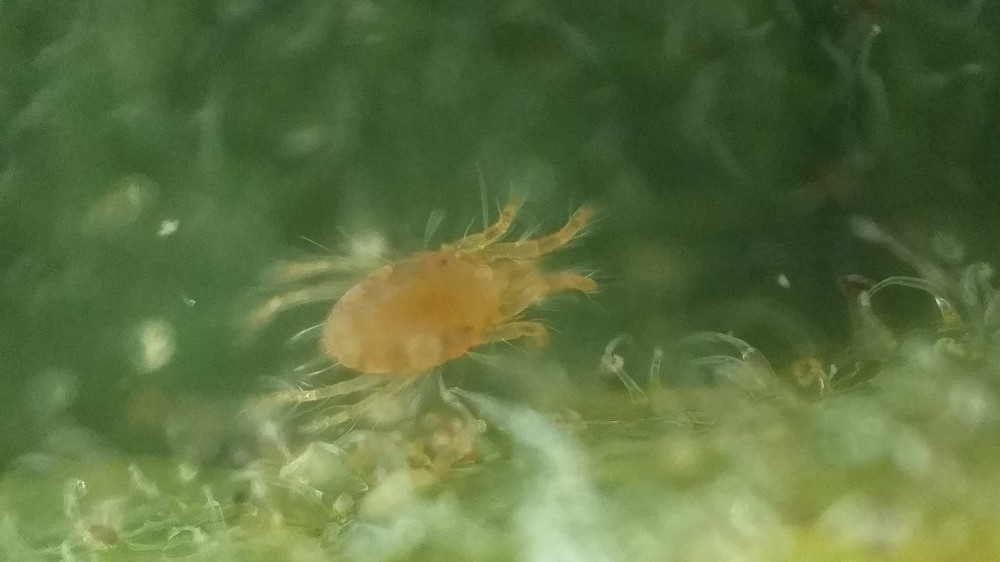Aracnido Rojo: (244, 178, 638, 441)
